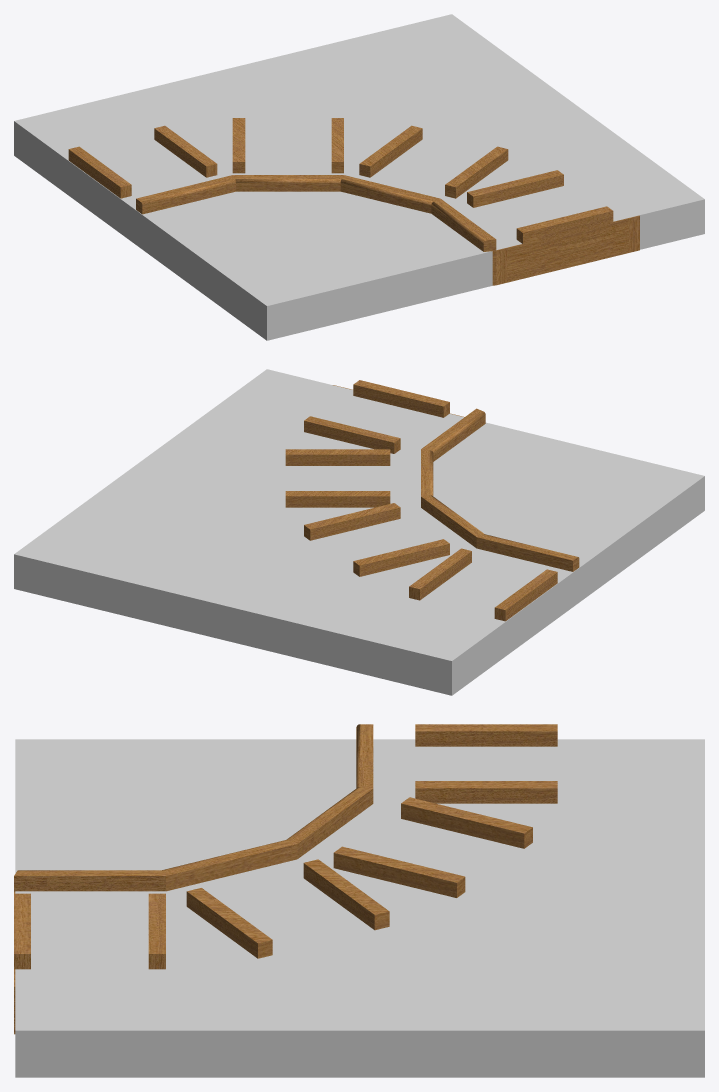
The model's file is VCKS0060.glb.
3 renders of one model, top to bottom at view 1: azimuth 30°, elevation 25°; view 2: azimuth 150°, elevation 25°; view 3: azimuth 270°, elevation 25°, orthographic. The views are drawn at different scales.
Parts seen in each view (by area): view 1: _bb_0, G-Group#140; view 2: _bb_0, G-Group#140; view 3: _bb_0, G-Group#140.
Boxes of the visible parts, x1,y1,x2,y2 form: _bb_0: [14, 14, 704, 340]; G-Group#140: [68, 118, 639, 285]; _bb_0: [14, 369, 704, 695]; G-Group#140: [285, 380, 579, 621]; _bb_0: [15, 739, 704, 1077]; G-Group#140: [14, 724, 557, 1034].
Bounding box in the file's own units: 0.5036 × 0.0505 × 0.5048.
Materials: 2 (2 with a texture image).
